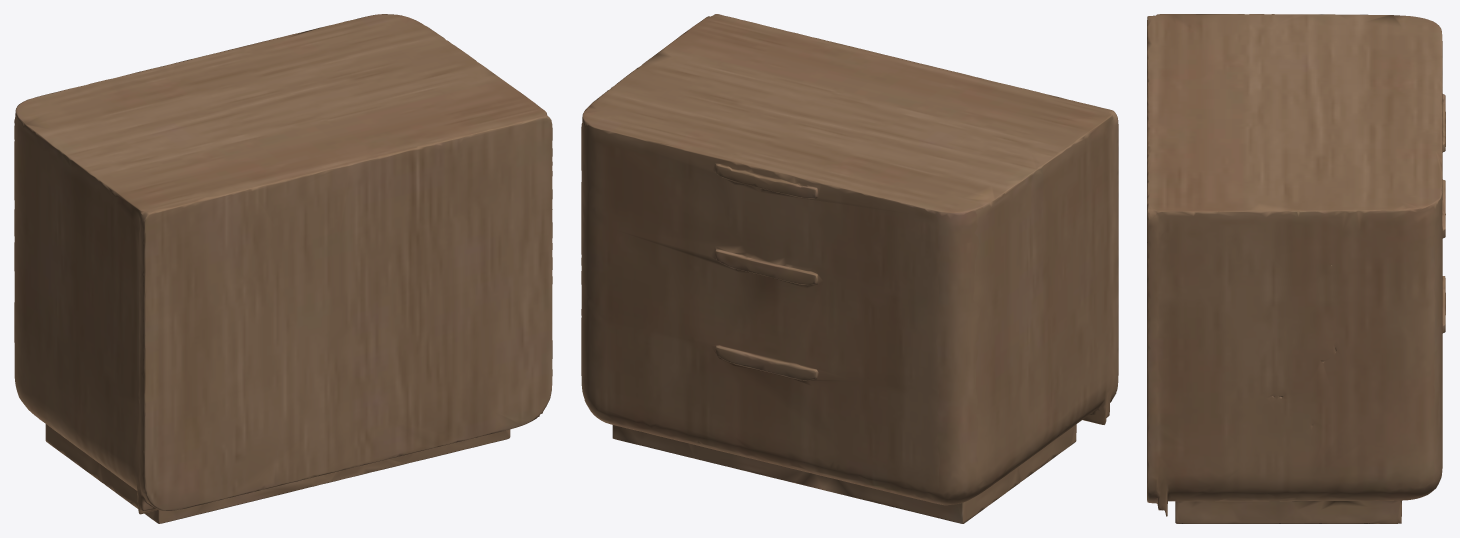
File: fm_dresser_wood.glb
3 views of the same model, side by side, from view 1: azimuth 30°, elevation 25°; view 2: azimuth 150°, elevation 25°; view 3: azimuth 270°, elevation 25° (orthographic).
Visible parts, largest first — view 1: geometry_0; view 2: geometry_0; view 3: geometry_0.
Boxes of the visible parts, <box> form: geometry_0: <box>14,14,552,523</box>; geometry_0: <box>581,14,1118,523</box>; geometry_0: <box>1147,14,1445,523</box>.
Size of the model in its own units: 1 by 0.7687 by 0.6375.
1 material, 1 textured.
